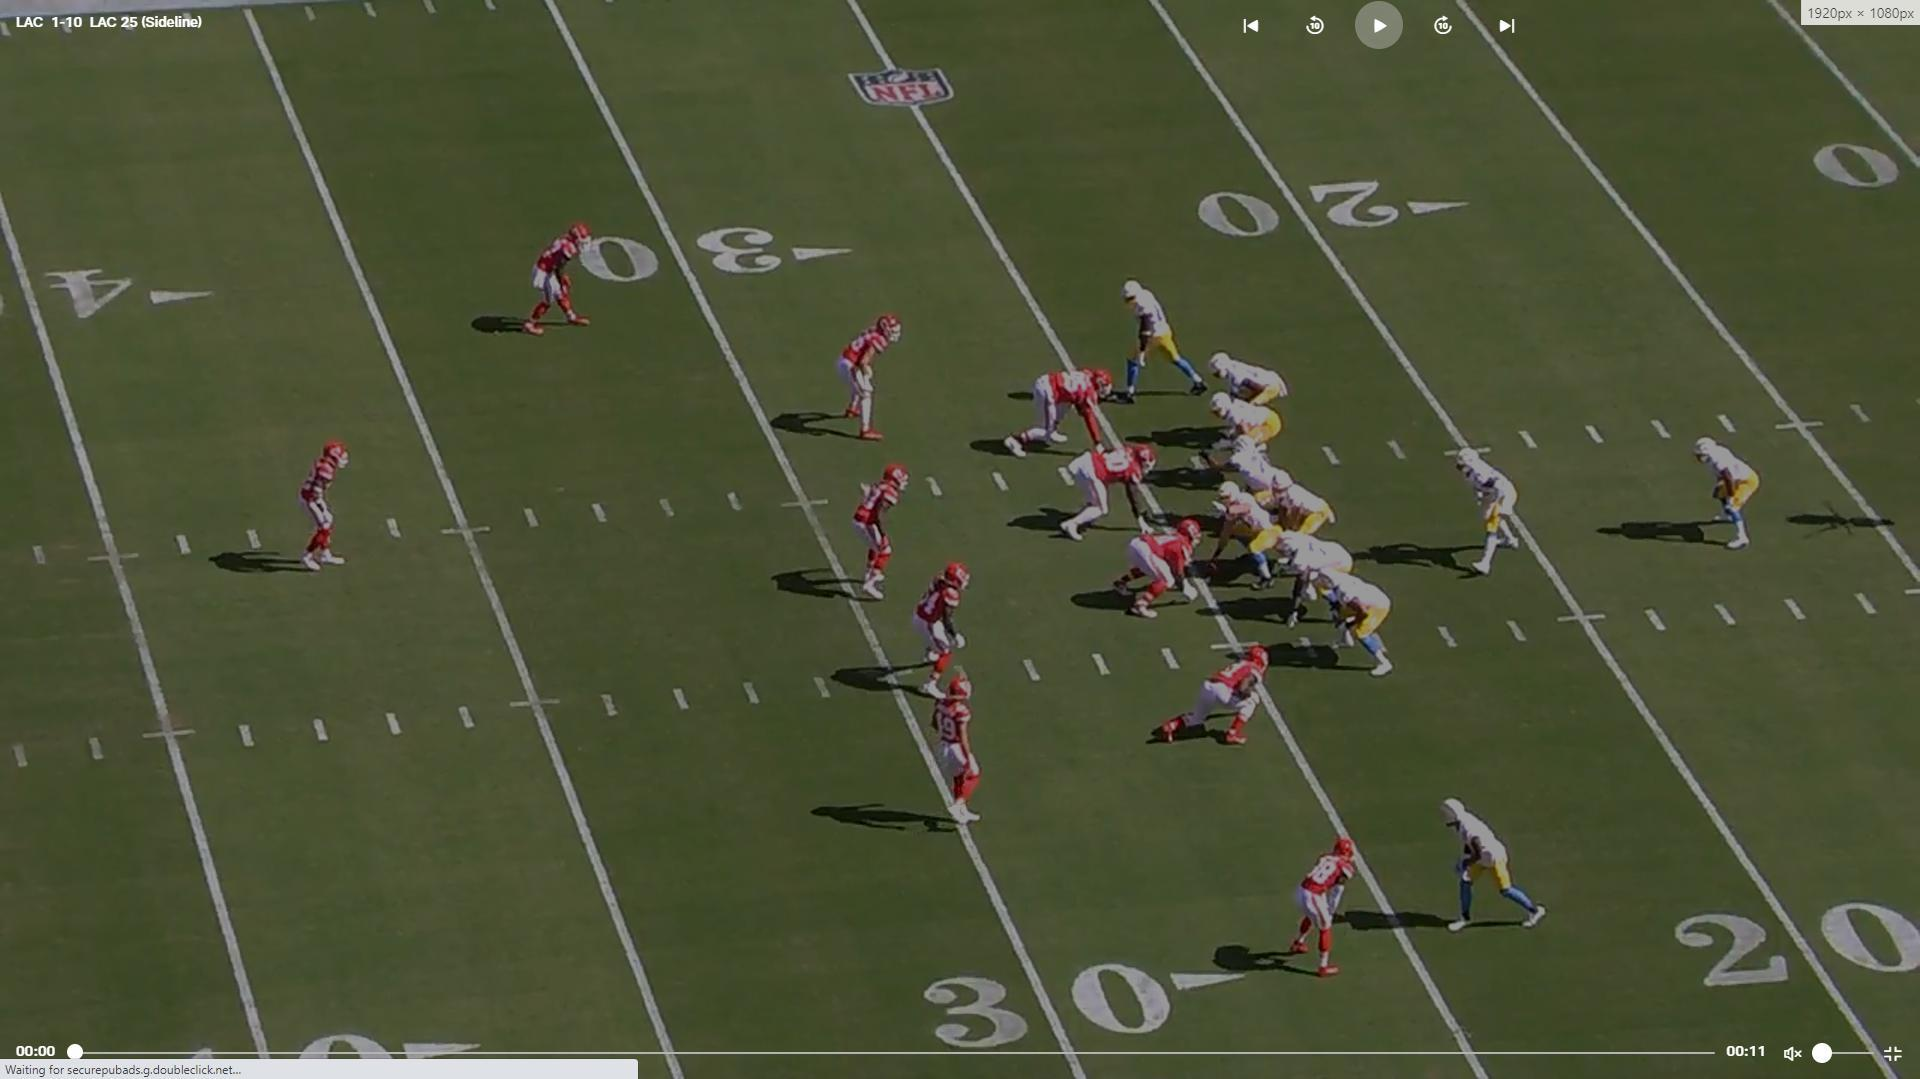defense: (1156, 645, 1282, 753), (1050, 442, 1159, 547), (1110, 517, 1211, 625), (1006, 363, 1118, 456), (1284, 835, 1358, 976), (932, 666, 990, 835), (907, 559, 971, 700), (836, 309, 901, 443), (524, 220, 595, 342), (851, 459, 909, 605), (289, 439, 349, 578)
oline: (1316, 566, 1403, 682), (1208, 478, 1288, 587), (1273, 529, 1353, 632), (1208, 389, 1280, 462), (1216, 443, 1294, 507)
qb: (1267, 468, 1335, 536)
skill: (1436, 791, 1551, 933), (1116, 274, 1208, 400), (1456, 445, 1526, 582), (1688, 433, 1760, 558), (1208, 348, 1291, 443)
